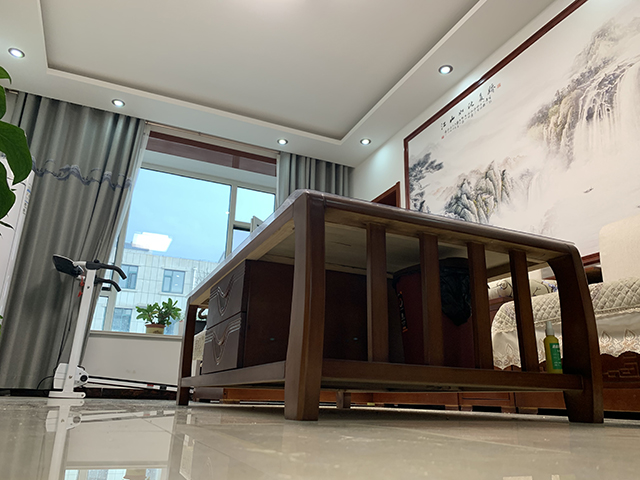curtain: (1, 89, 152, 396)
table: (174, 188, 607, 427)
